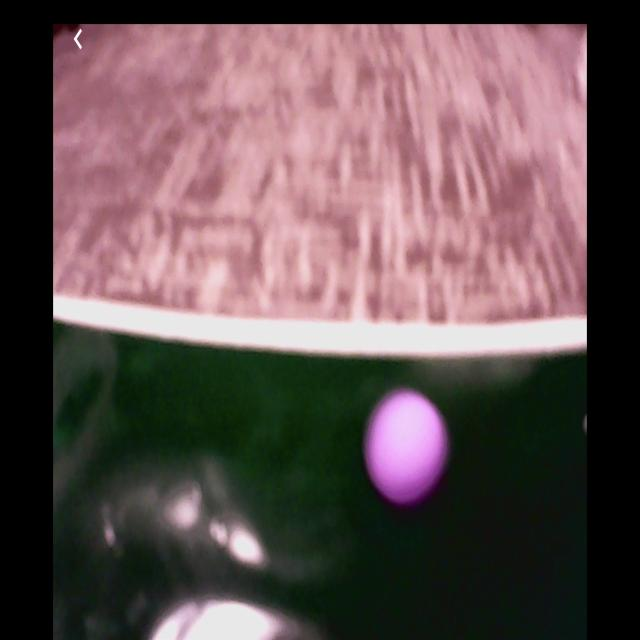ball: (363, 386, 451, 508)
